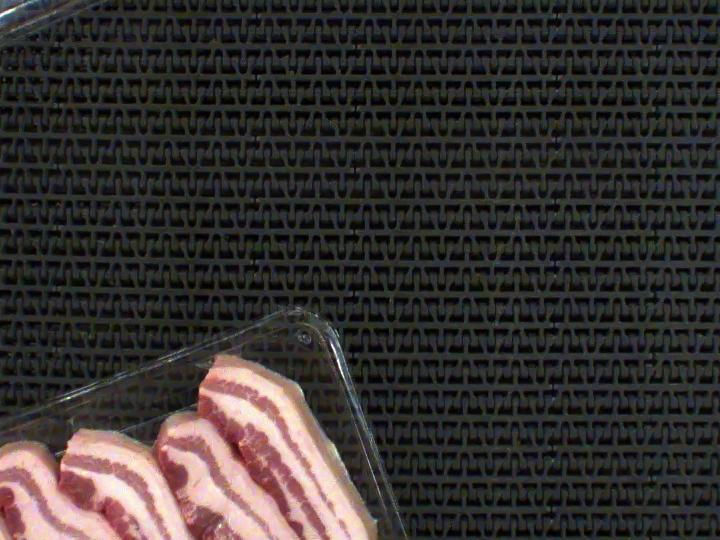packaging-error: (193, 338, 244, 369)
